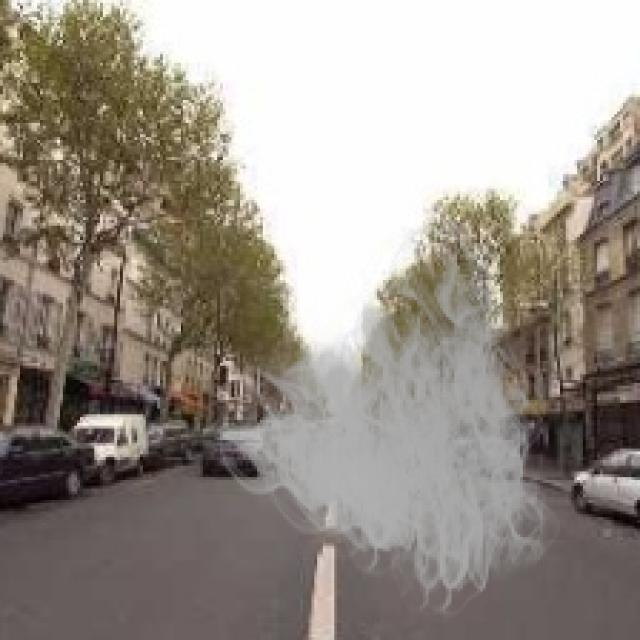smoke: (208, 212, 568, 628)
